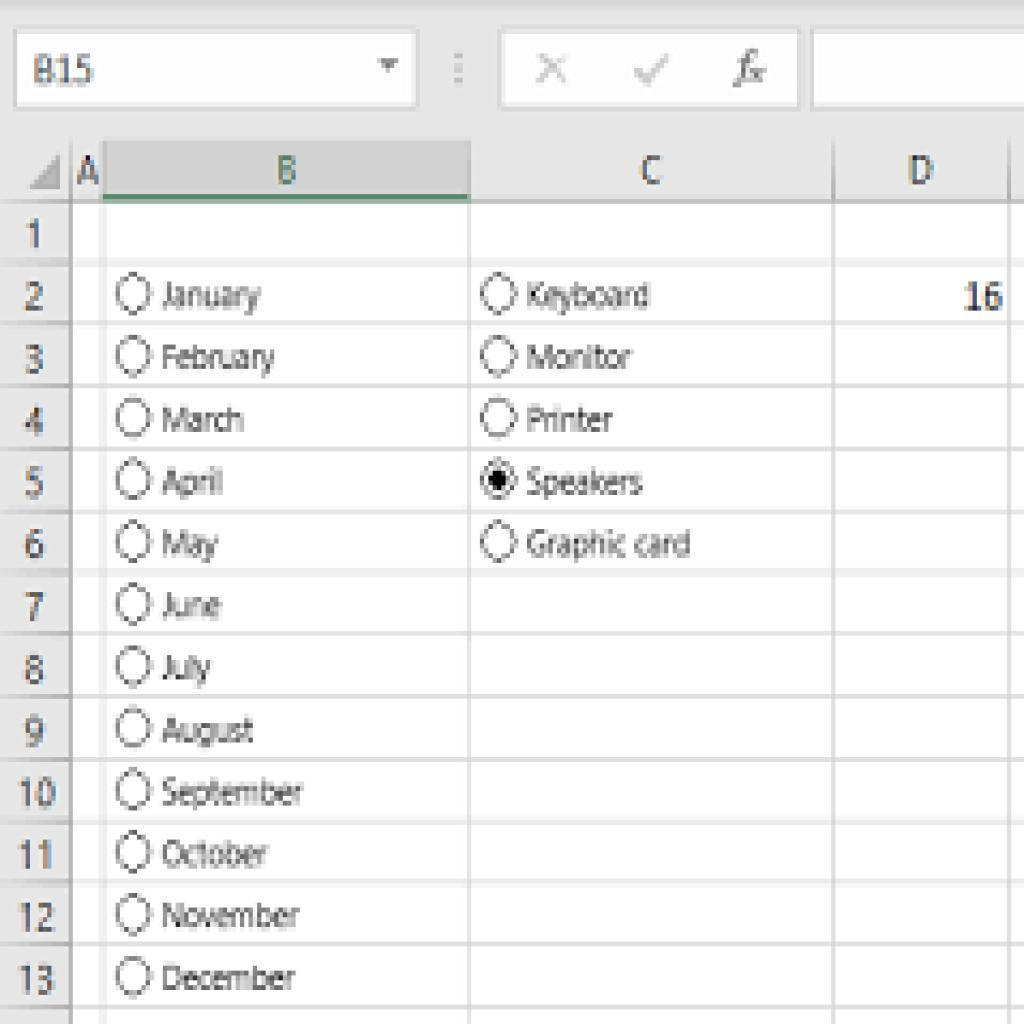dropdown: (19, 30, 419, 110)
icon: (447, 46, 480, 101)
radio: (114, 704, 156, 752), (113, 517, 155, 565), (479, 333, 521, 380), (116, 953, 157, 998), (114, 456, 156, 499), (480, 455, 520, 500), (114, 769, 157, 810), (482, 396, 520, 442), (116, 893, 155, 937), (482, 273, 520, 317), (116, 583, 154, 627), (117, 275, 156, 317), (116, 397, 155, 439), (481, 519, 519, 562), (114, 647, 153, 687), (117, 831, 153, 874), (116, 337, 153, 378)
table: (7, 130, 1008, 1009)
